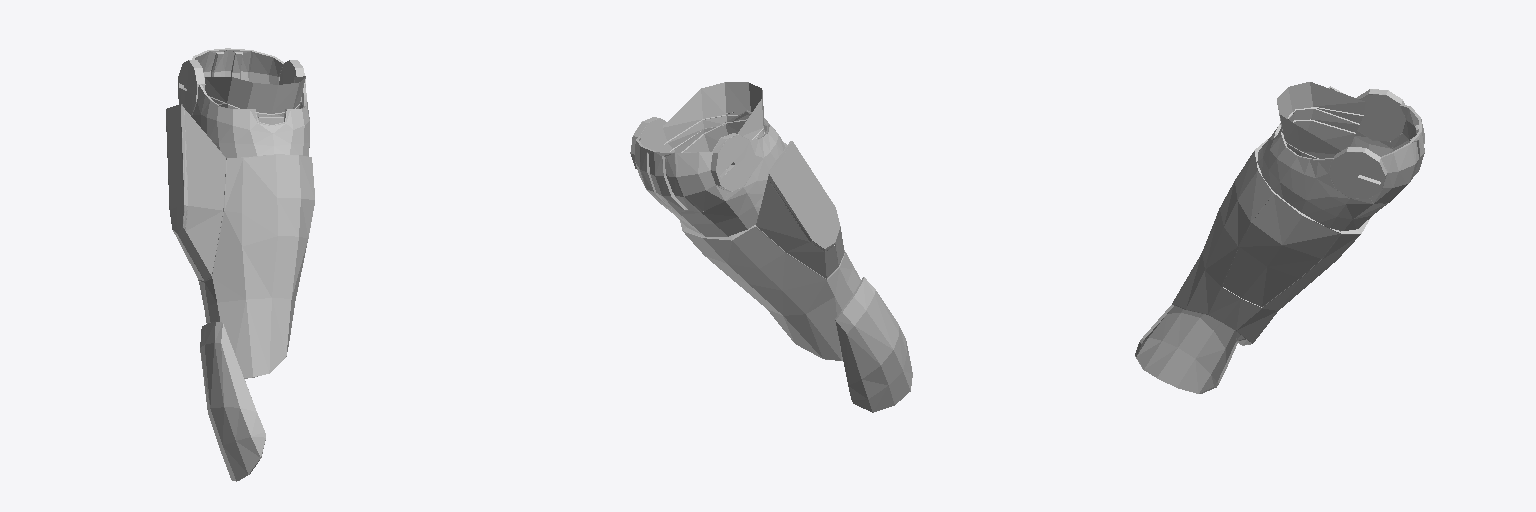
File: irightd2.obj
3 renders of one model, left to right at view 1: azimuth 30°, elevation 25°; view 2: azimuth 150°, elevation 25°; view 3: azimuth 270°, elevation 25°, orthographic.
Parts seen in each view (by area): view 1: HD_Ironman:polySurface3973; view 2: HD_Ironman:polySurface3973; view 3: HD_Ironman:polySurface3973.
Part boxes in pixels (bbox=[...]): HD_Ironman:polySurface3973: bbox=[166, 48, 314, 481]; HD_Ironman:polySurface3973: bbox=[630, 82, 912, 412]; HD_Ironman:polySurface3973: bbox=[1135, 82, 1424, 393].
Size of the model in its own units: 2.18 by 4.13 by 3.2.